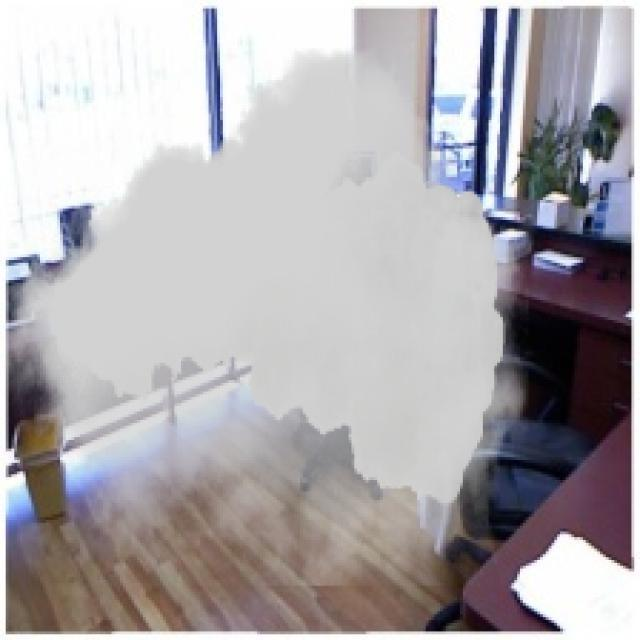Smoke: (6, 48, 528, 586)
